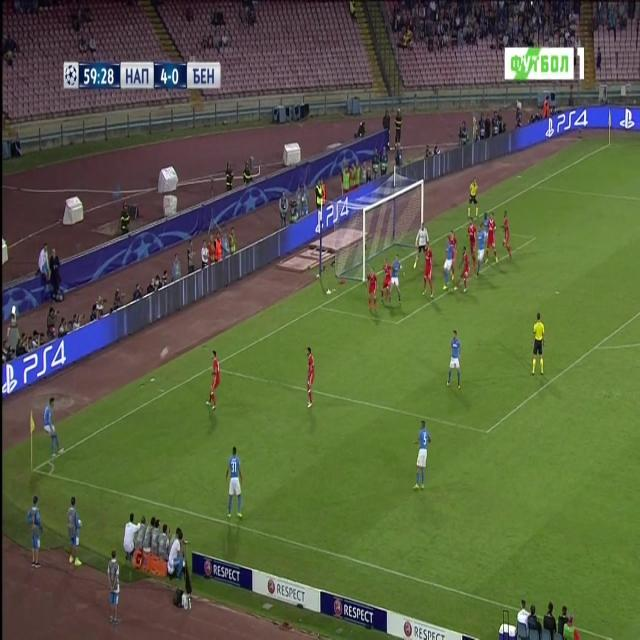Goalkeeper: (412, 220, 431, 271)
Player: (42, 394, 65, 463), (225, 444, 245, 520), (413, 415, 432, 492), (203, 347, 221, 414), (445, 326, 463, 389), (304, 345, 316, 414), (390, 252, 404, 308), (364, 266, 380, 312), (422, 240, 434, 300), (501, 205, 514, 260), (476, 220, 487, 280), (488, 212, 499, 268), (442, 234, 452, 294), (459, 246, 471, 294), (380, 258, 391, 308), (449, 227, 458, 288), (464, 216, 477, 258), (480, 211, 492, 228)
Referee: (527, 311, 548, 381), (468, 174, 482, 218)
